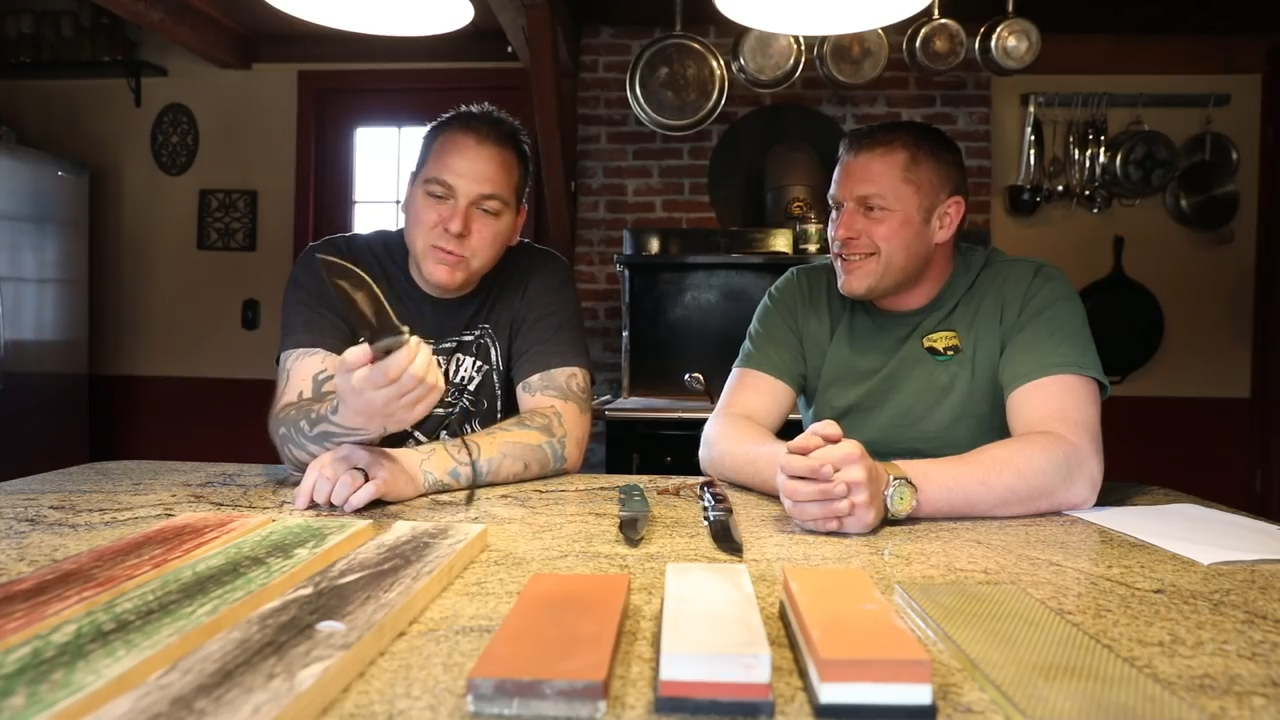knife: (305, 240, 448, 390)
